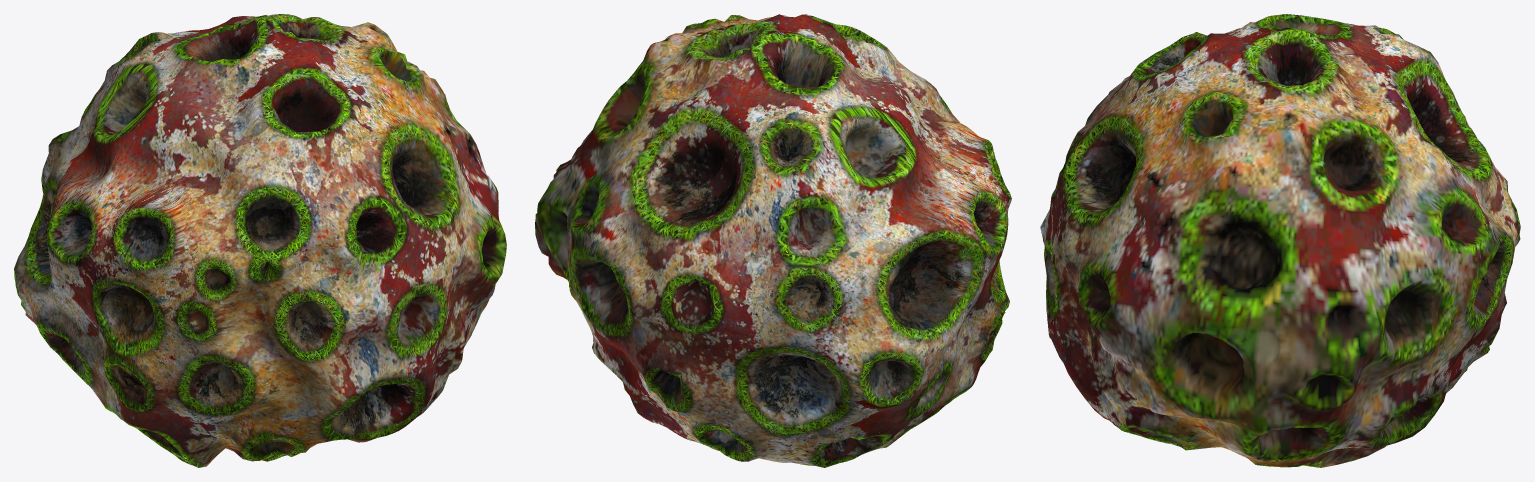
The model's file is PlanetaCrater.DAE.
The picture shows the model from 3 angles, left to right: view 1: azimuth 30°, elevation 25°; view 2: azimuth 150°, elevation 25°; view 3: azimuth 270°, elevation 25°; orthographic projection. The views are drawn at different scales.
Visible parts, largest first — view 1: planetaCrater; view 2: planetaCrater; view 3: planetaCrater.
Boxes of the visible parts, box(x1,y1,x2,y2) form: planetaCrater: box(14, 14, 506, 467); planetaCrater: box(535, 14, 1011, 467); planetaCrater: box(1040, 14, 1520, 467).
Size of the model in its own units: 31.57 by 29.32 by 28.19.
Materials: 1 (1 with a texture image).
